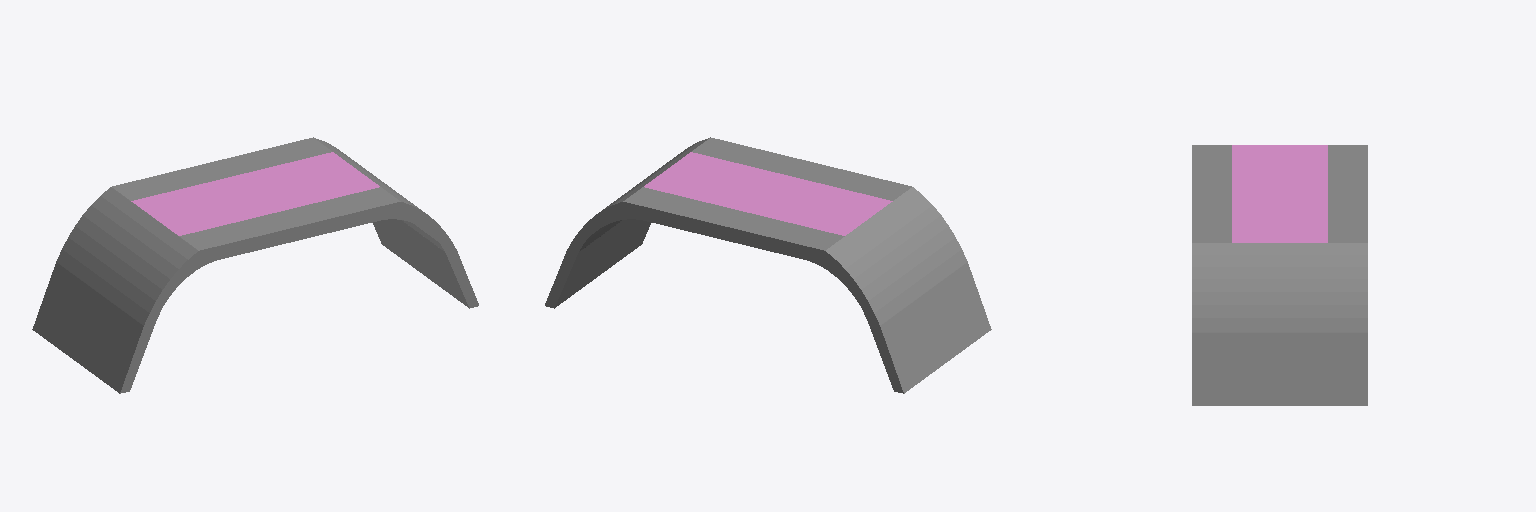
File: TAVOLO.obj
3 views of the same model, side by side, from view 1: azimuth 30°, elevation 25°; view 2: azimuth 150°, elevation 25°; view 3: azimuth 270°, elevation 25° (orthographic).
Parts seen in each view (by area): view 1: TAVOLO; view 2: TAVOLO; view 3: TAVOLO.
Boxes of the visible parts, x1,y1,x2,y2 form: TAVOLO: [32, 137, 478, 393]; TAVOLO: [545, 137, 991, 393]; TAVOLO: [1192, 145, 1367, 405].
Size of the model in its own units: 182 by 60 by 77.